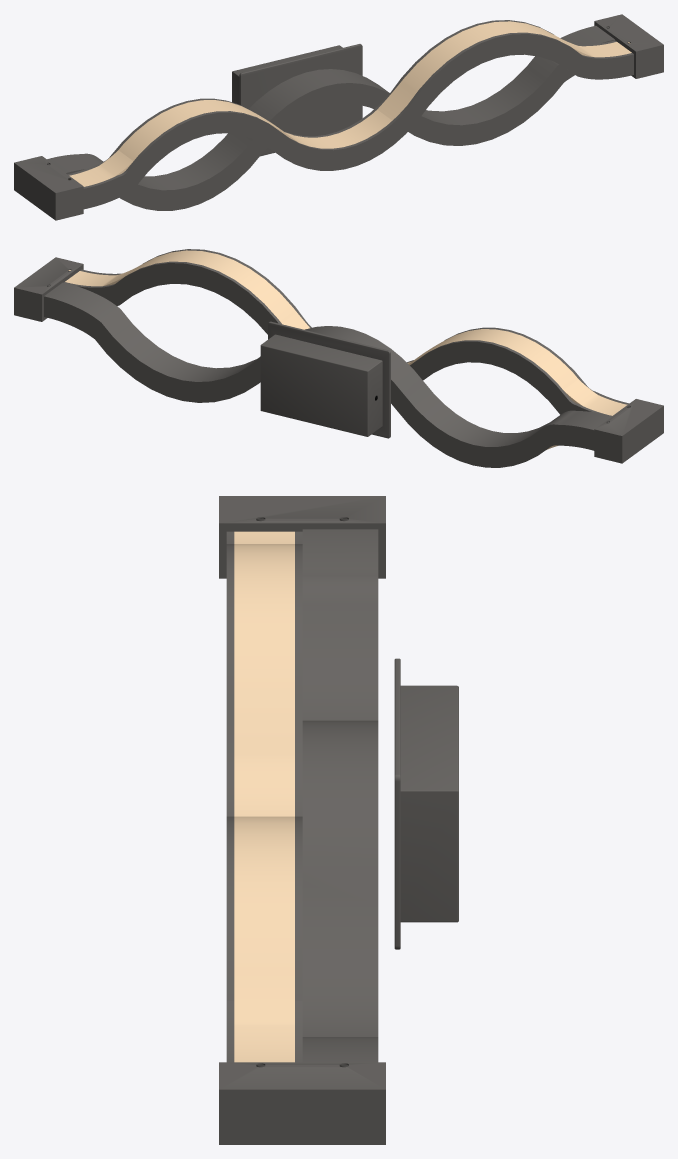
The model's file is lights 4.glb.
3 renders of one model, top to bottom at view 1: azimuth 30°, elevation 25°; view 2: azimuth 150°, elevation 25°; view 3: azimuth 270°, elevation 25°, orthographic. The views are drawn at different scales.
Visible parts, largest first — view 1: 3DGeom-1, 3DGeom-5; view 2: 3DGeom-1, 3DGeom-5; view 3: 3DGeom-1, 3DGeom-5.
Boxes of the visible parts, bbox=[...] form: 3DGeom-1: bbox=[14, 14, 663, 220]; 3DGeom-5: bbox=[69, 21, 631, 186]; 3DGeom-1: bbox=[14, 249, 663, 467]; 3DGeom-5: bbox=[65, 250, 627, 415]; 3DGeom-1: bbox=[219, 496, 458, 1144]; 3DGeom-5: bbox=[234, 531, 294, 1062].
Bounding box in the file's own units: 0.9251 × 0.1747 × 0.158.
